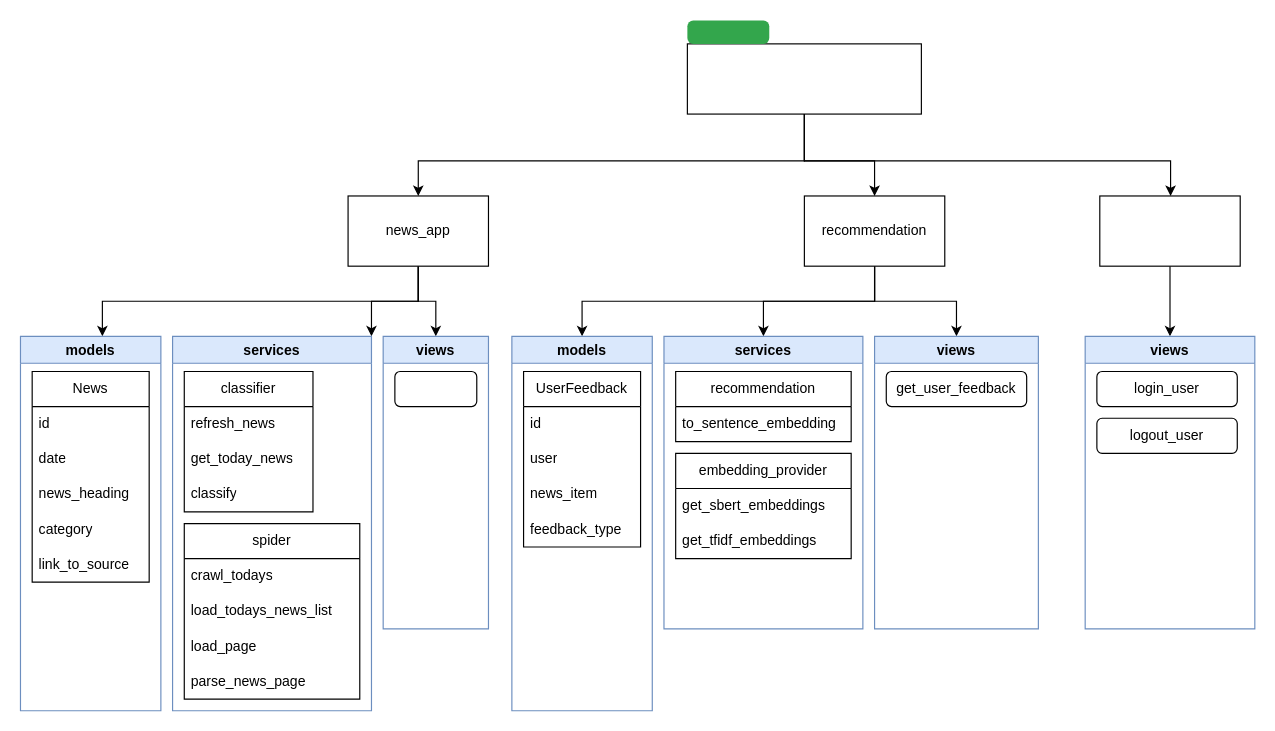
This 1275x731 diagram has some shape labels left out. The shapes that lost their labels are listed below. From the top down, each one's centre as x and y in pixels, then its label:
At point 728,31: "Main App".
At point 803,78: "sinhala_news_platform_backend".
At point 1169,230: "users".
At point 435,388: "home".
